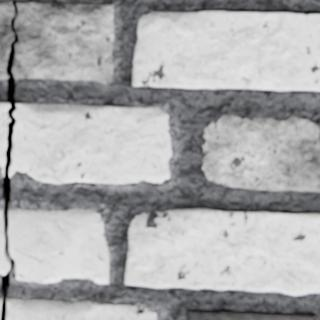brick: (123, 206, 319, 292), (131, 10, 319, 90), (201, 113, 319, 190), (185, 308, 314, 319)
broken_brick: (10, 102, 170, 182), (12, 1, 113, 82), (8, 207, 108, 281), (6, 296, 157, 319), (0, 1, 14, 78), (0, 101, 10, 175), (0, 208, 9, 273)
crack: (0, 0, 18, 319)
